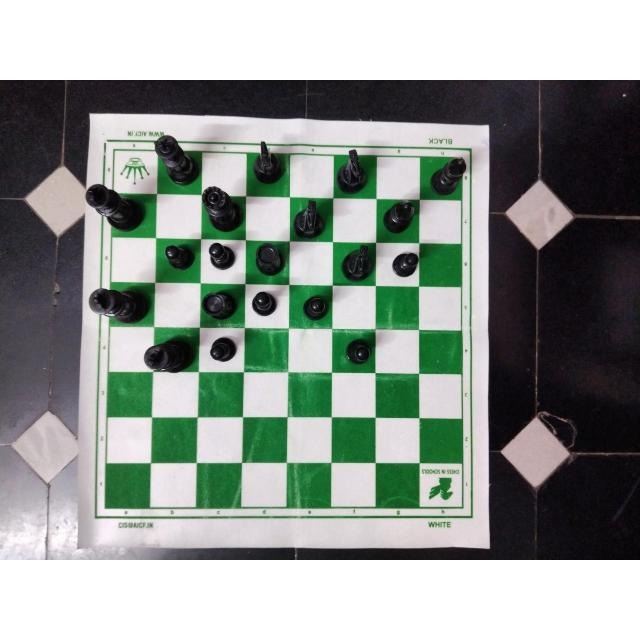black-bishop: (427, 156, 466, 200), (382, 199, 416, 237)
black-king: (84, 183, 144, 235), (87, 286, 151, 326), (152, 134, 199, 186), (141, 338, 195, 374)
black-knight: (334, 147, 369, 196), (251, 139, 288, 184), (293, 198, 329, 242), (338, 244, 374, 284)
black-pawn: (161, 242, 197, 273), (206, 240, 238, 271), (206, 336, 239, 366), (343, 337, 373, 369), (299, 293, 331, 322), (391, 249, 419, 280), (251, 290, 279, 319)
black-queen: (201, 185, 245, 237)
black-rook: (199, 291, 239, 323), (253, 241, 287, 276)
